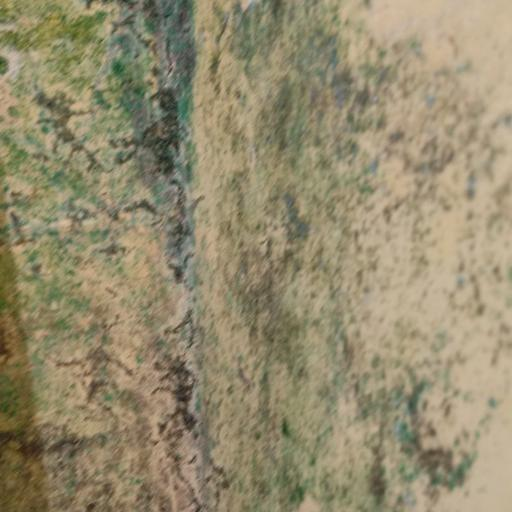algae: (0, 0, 299, 471)
